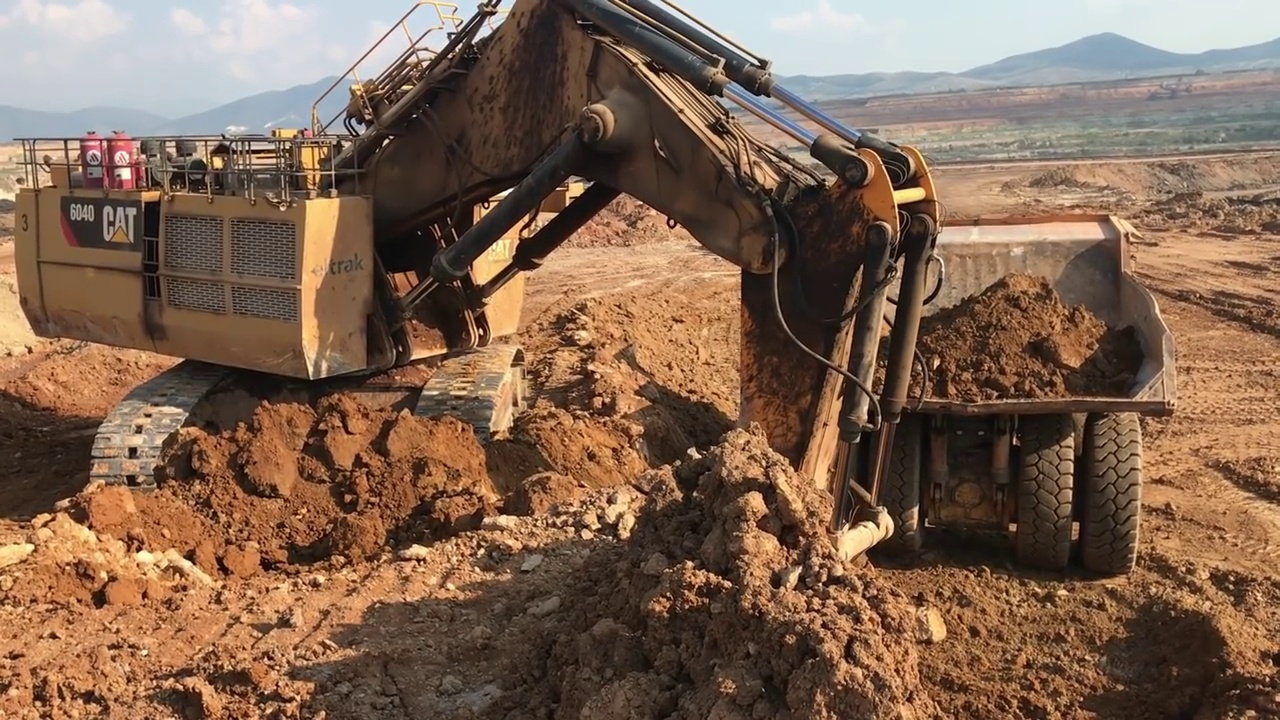dumper: (900, 211, 1180, 576)
excavator: (13, 3, 945, 607)
